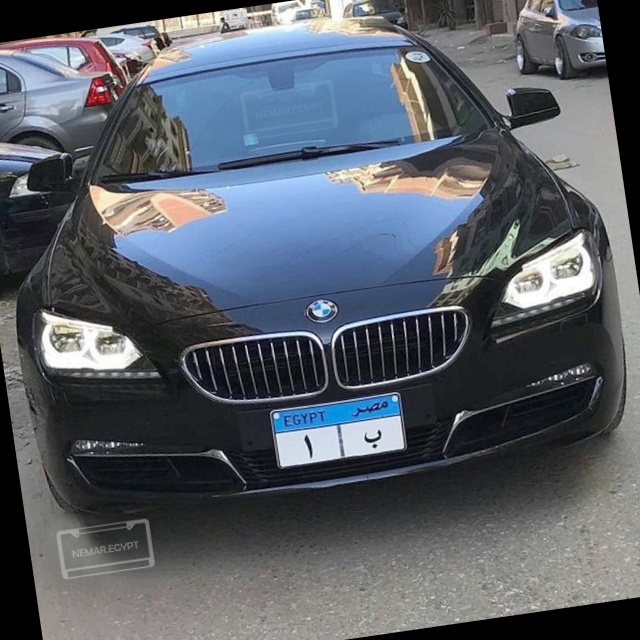License Plate: (265, 388, 411, 474)
